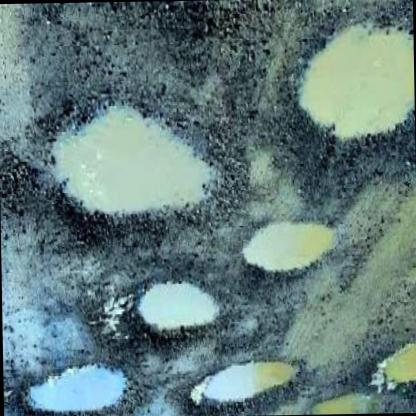pothole: (39, 87, 232, 247), (286, 19, 415, 160), (13, 360, 147, 416), (176, 359, 306, 416), (240, 217, 344, 288), (128, 276, 227, 350), (371, 339, 416, 394), (308, 392, 374, 414)
